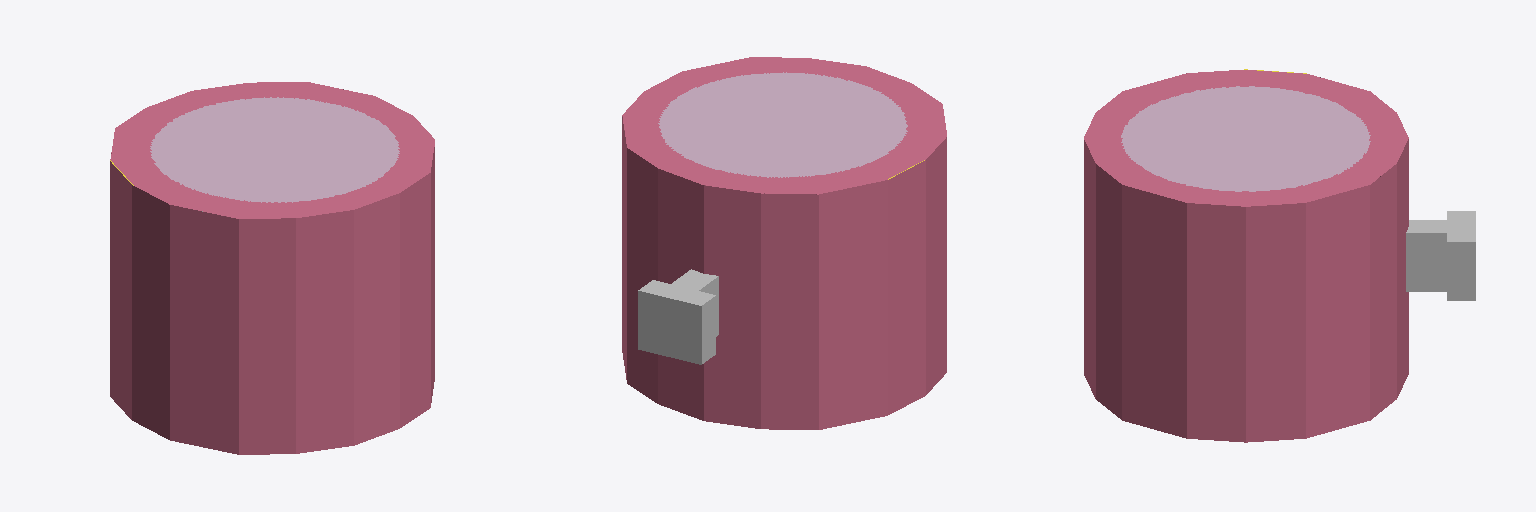
3 views of the same model, side by side, from view 1: azimuth 30°, elevation 25°; view 2: azimuth 150°, elevation 25°; view 3: azimuth 270°, elevation 25° (orthographic).
Parts seen in each view (by area): view 1: 立方体; view 2: 立方体; view 3: 立方体.
Boxes of the visible parts, x1,y1,x2,y2 form: 立方体: [110, 82, 434, 454]; 立方体: [622, 57, 946, 429]; 立方体: [1084, 69, 1475, 442].
Bounding box in the file's own units: 2 × 1.6 × 2.41.
3 materials, 1 textured.